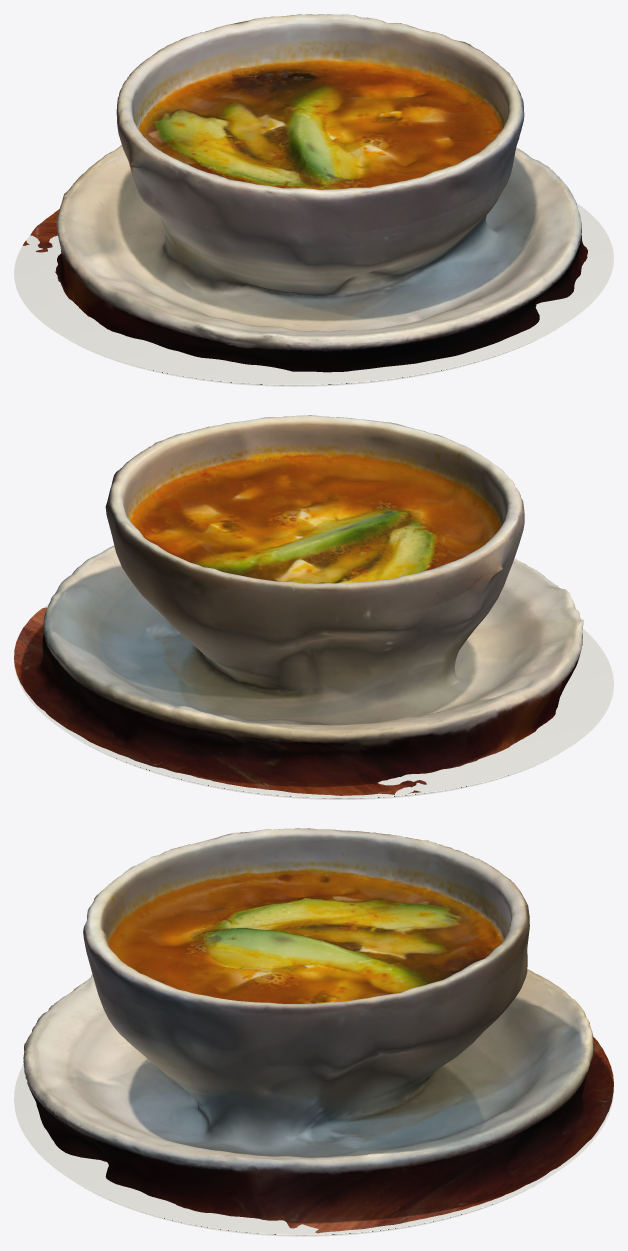
Rendered from sopa-azteca-marce.glb.
The picture shows the model from 3 angles, top to bottom: view 1: azimuth 30°, elevation 25°; view 2: azimuth 150°, elevation 25°; view 3: azimuth 270°, elevation 25°; orthographic projection. The views are drawn at different scales.
Visible parts, largest first — view 1: approximate-plate-scale, plate-base; view 2: approximate-plate-scale, plate-base; view 3: approximate-plate-scale, plate-base.
Boxes of the visible parts, x1=… form: approximate-plate-scale: x1=23, y1=14, x2=587, y2=372; plate-base: x1=14, y1=203, x2=613, y2=386; approximate-plate-scale: x1=14, y1=415, x2=583, y2=795; plate-base: x1=14, y1=604, x2=613, y2=799; approximate-plate-scale: x1=23, y1=828, x2=613, y2=1233; plate-base: x1=14, y1=1064, x2=613, y2=1236.
Size of the model in its own units: 0.2 by 0.0647 by 0.1822.
Materials: 2 (1 with a texture image).
